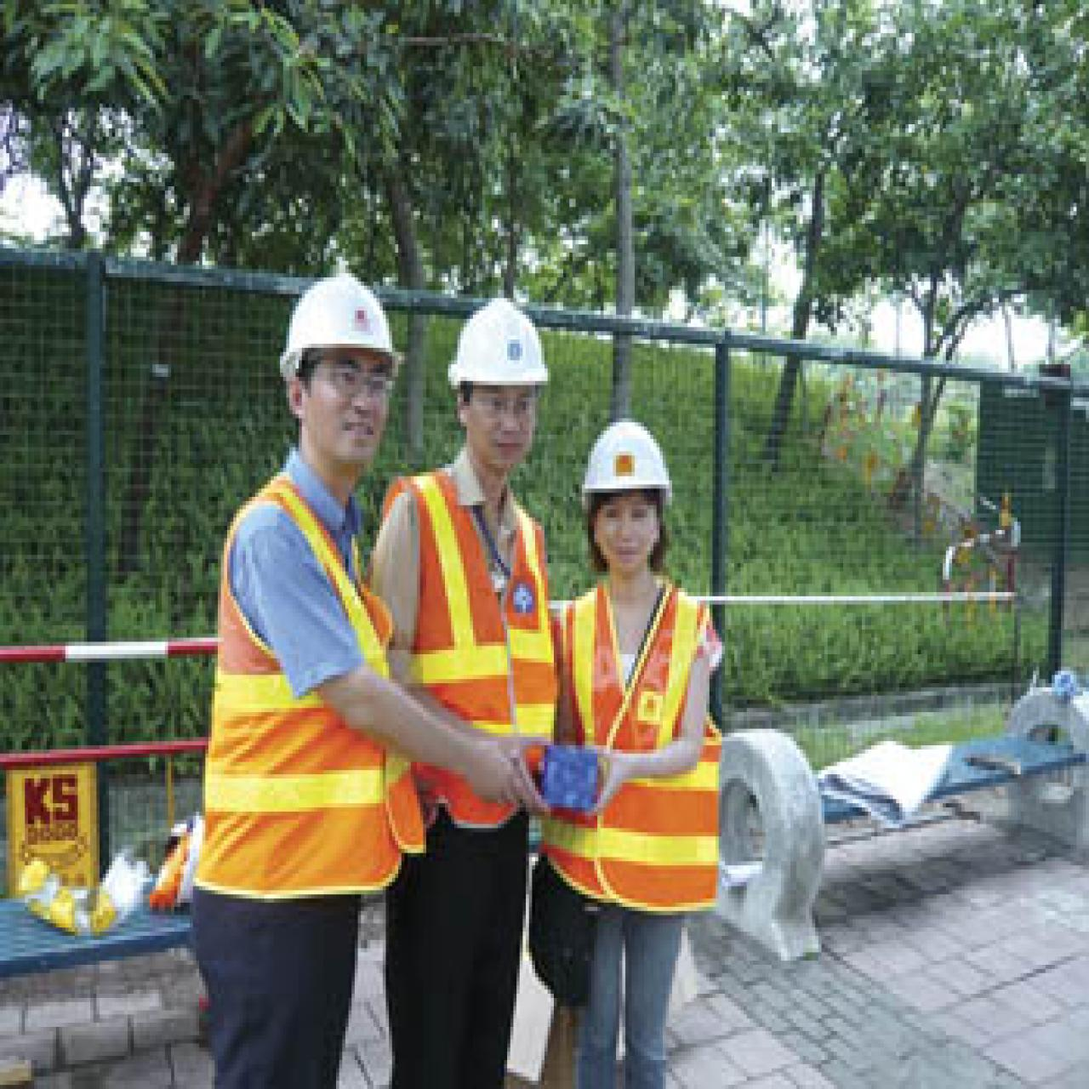Person: (163, 243, 446, 1089), (373, 277, 569, 1089), (523, 389, 745, 1089)
Safety_Vest: (195, 476, 419, 897), (378, 463, 557, 834), (543, 579, 724, 914)
